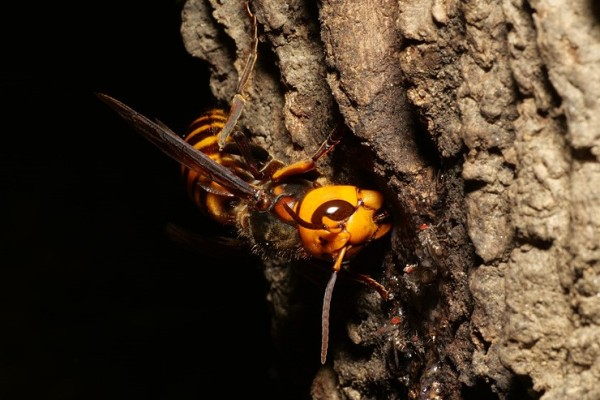asian_giant_hornet: (177, 105, 395, 272)
